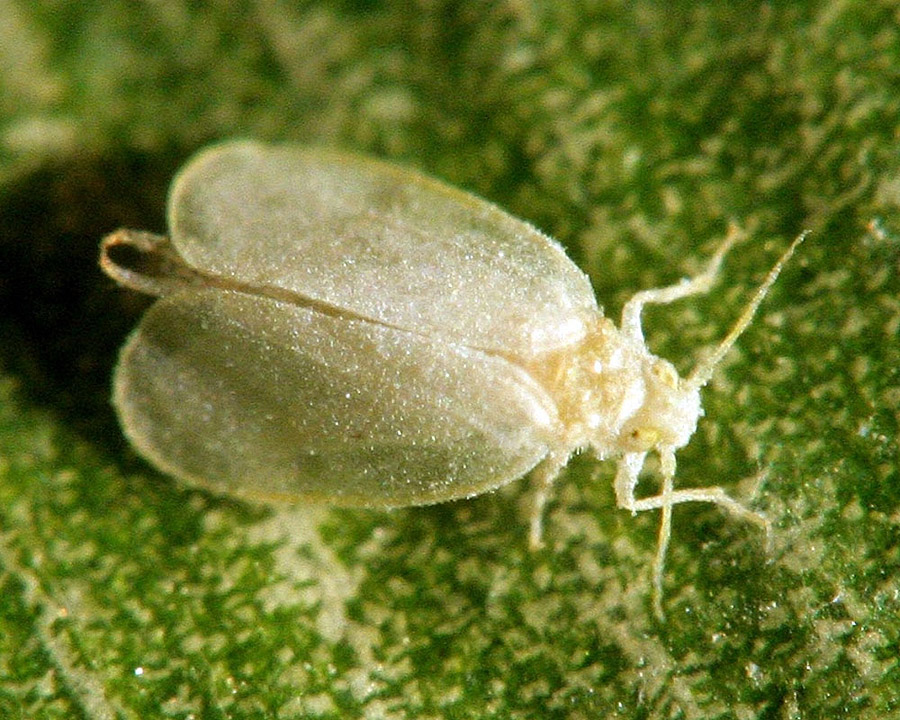whitefly: (99, 138, 811, 624)
